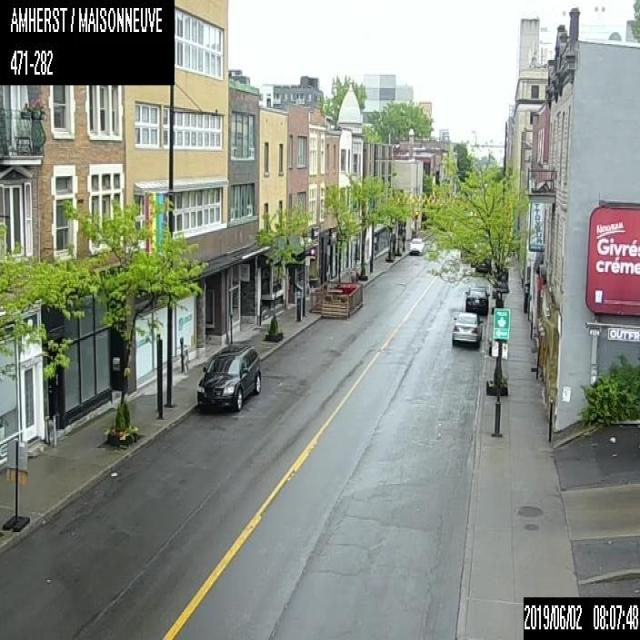vehicle: (195, 339, 261, 412), (451, 309, 483, 348), (464, 286, 490, 314), (408, 236, 425, 255)
